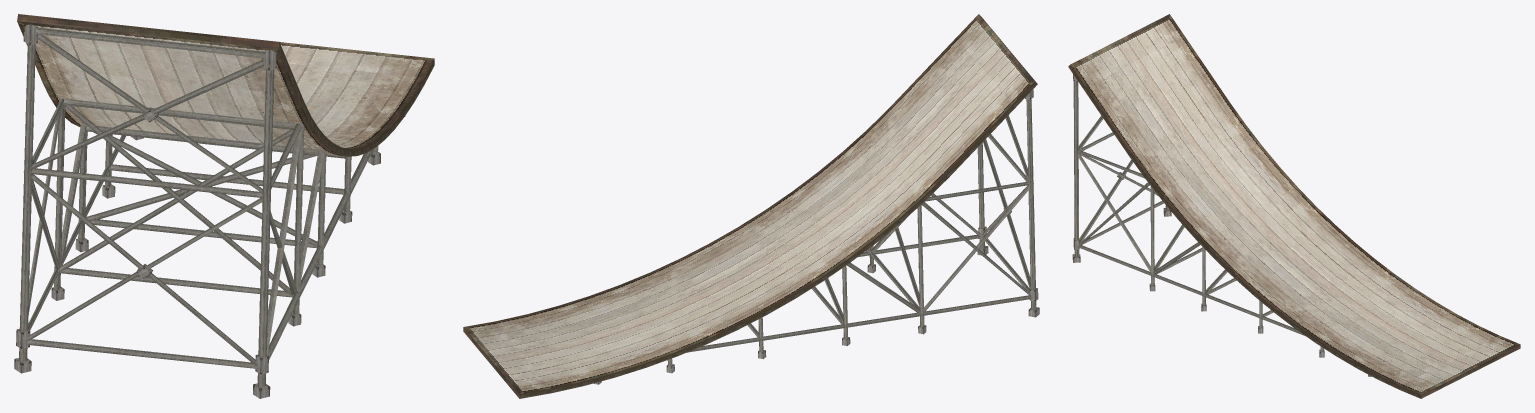
File: ps2_save-icons_stuntman-arena.glb
The picture shows the model from 3 angles, left to right: view 1: azimuth 30°, elevation 25°; view 2: azimuth 150°, elevation 25°; view 3: azimuth 270°, elevation 25°; orthographic projection. The views are drawn at different scales.
Visible parts, largest first — view 1: arena.ico; view 2: arena.ico; view 3: arena.ico.
Boxes of the visible parts, bbox=[...] form: arena.ico: bbox=[14, 14, 434, 398]; arena.ico: bbox=[463, 14, 1039, 398]; arena.ico: bbox=[1068, 14, 1520, 398].
Size of the model in its own units: 3.81 by 2.1 by 4.12.
Materials: 1 (1 with a texture image).
